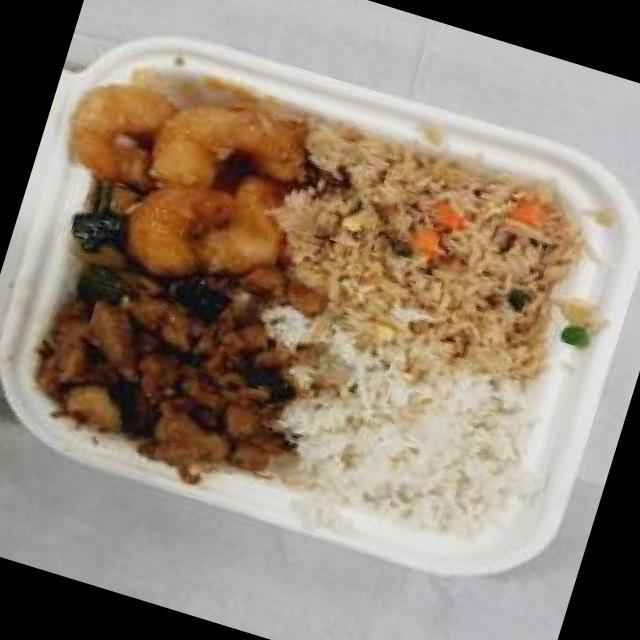Fried Rice: (276, 123, 587, 394)
Honey Walnut Shrimp: (34, 42, 340, 304)
Kung Pao Chicken: (11, 238, 322, 500)
White Steamed Rice: (260, 310, 544, 553)
